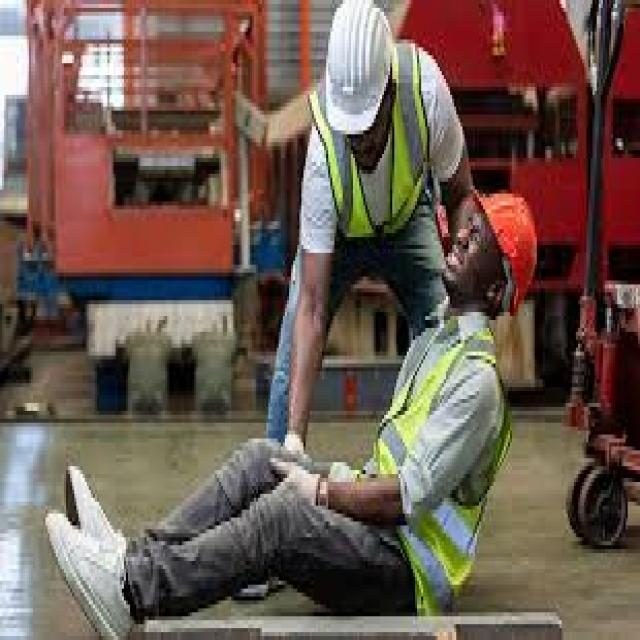Gloves: (273, 378, 309, 465), (275, 459, 321, 513)
